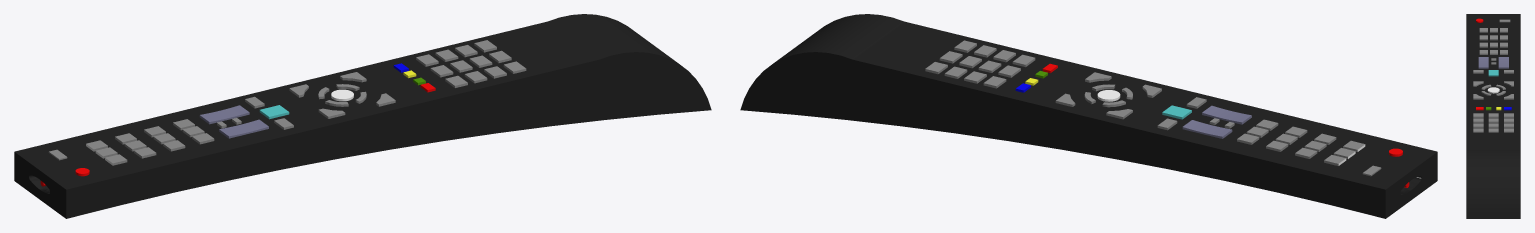
File: Remote_control_9.fbx
3 renders of one model, left to right at view 1: azimuth 30°, elevation 25°; view 2: azimuth 150°, elevation 25°; view 3: azimuth 270°, elevation 25°, orthographic. The views are drawn at different scales.
Visible parts, largest first — view 1: Model; view 2: Model; view 3: Model.
Part boxes in pixels (<box>): Model: <box>14,14,711,218</box>; Model: <box>740,14,1437,218</box>; Model: <box>1466,14,1520,218</box>.
Size of the model in its own units: 66.6 by 7.95 by 9.28.
